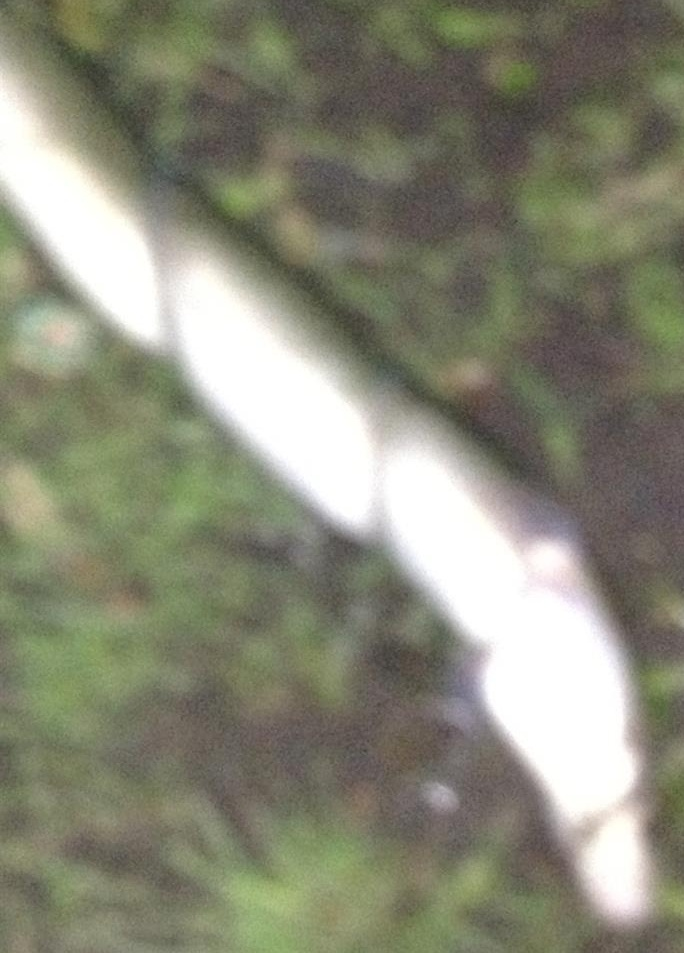Anguilla anguilla: (1, 20, 664, 933)
